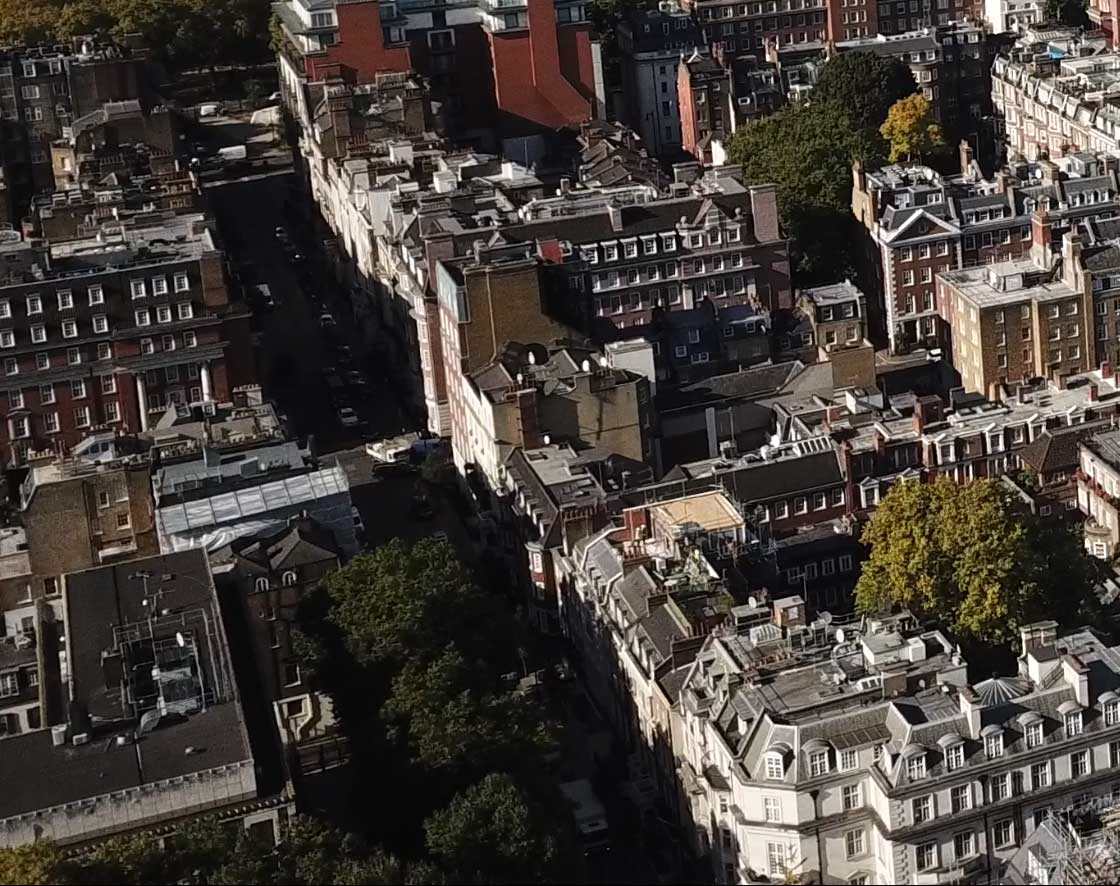building: (308, 547, 496, 661)
tree: (856, 471, 1091, 634), (741, 58, 926, 192)
